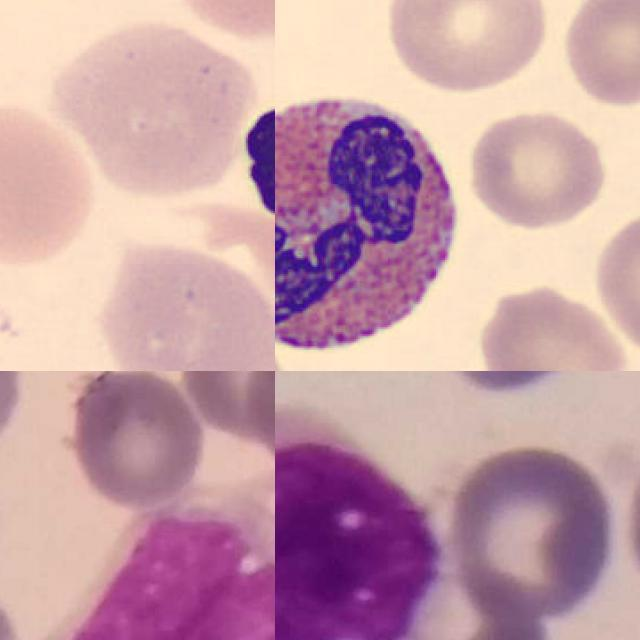Eosinophil: (275, 69, 473, 367)
Monocyte: (14, 482, 275, 640), (275, 405, 441, 640)
RBC: (45, 14, 257, 199), (95, 238, 275, 371), (465, 105, 611, 232), (0, 94, 100, 271), (379, 0, 553, 95), (471, 281, 635, 371), (555, 0, 640, 112), (590, 201, 640, 371)
